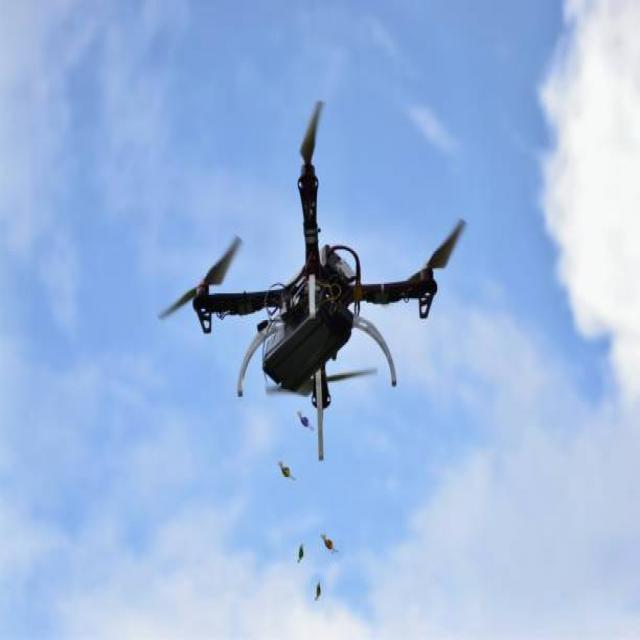drone: (154, 94, 482, 480)
